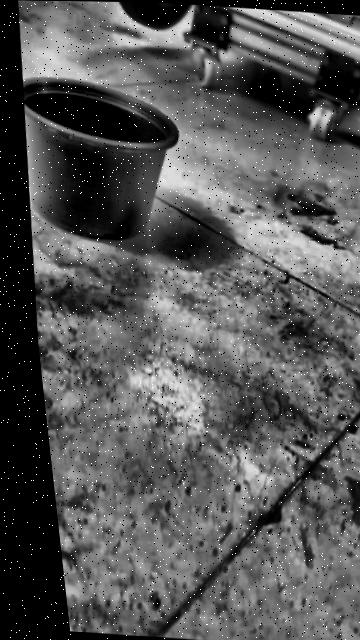pot: (13, 74, 191, 242)
